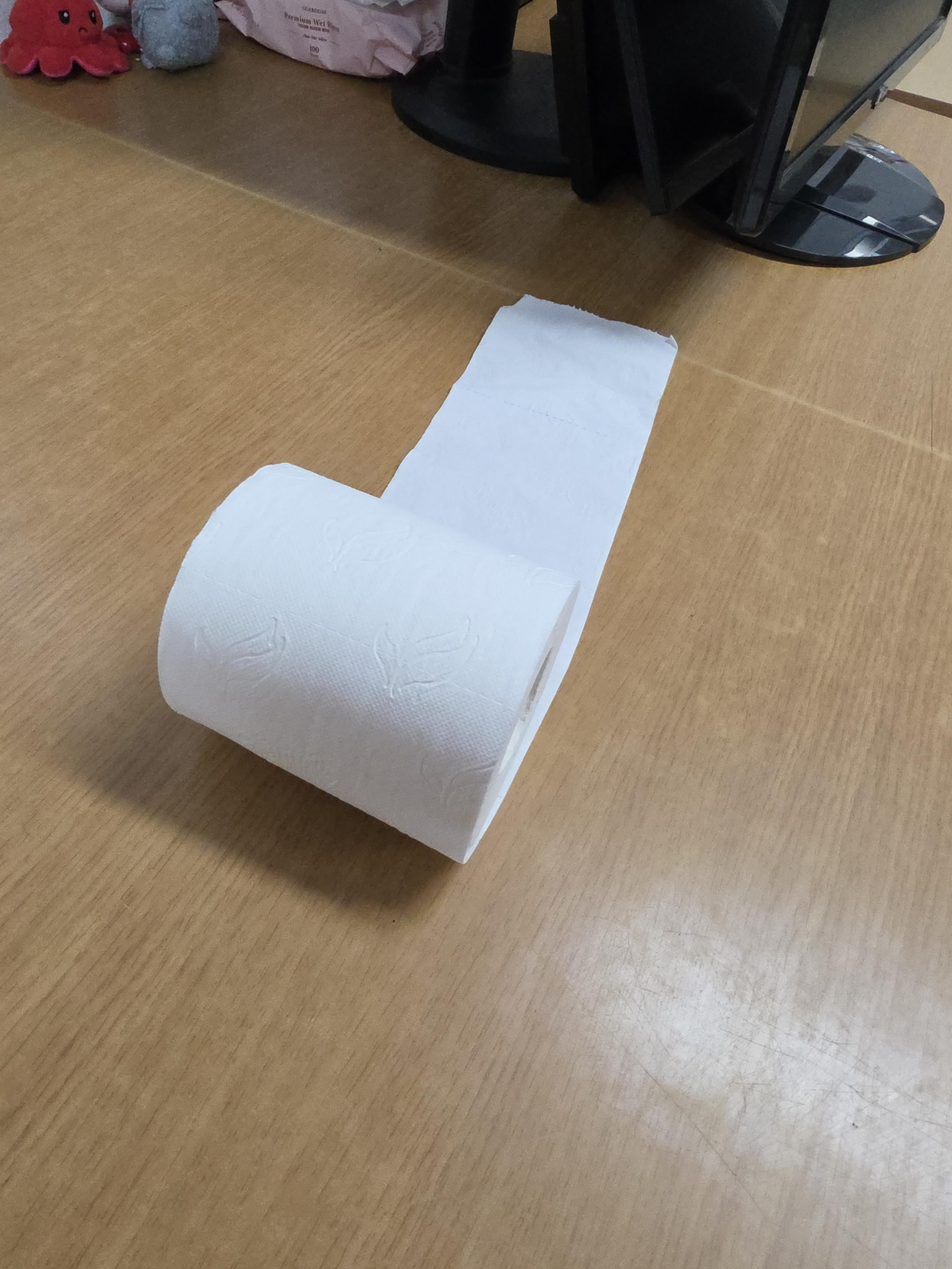tissue: (157, 293, 679, 866)
